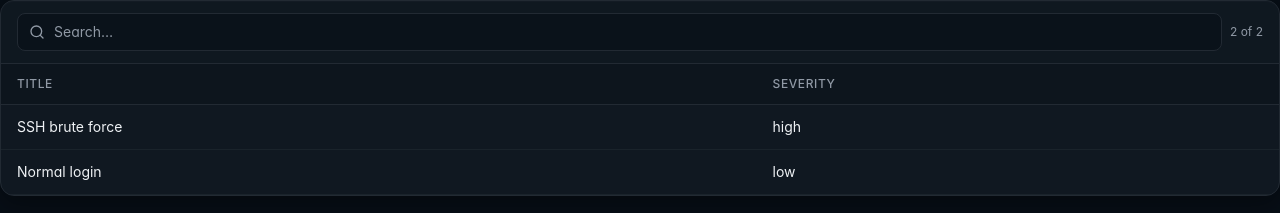
Test case: DataTable › filters rows from the search box
The width and height of the screenshot is (1280, 213).
Type "brute" into the field with placeholder "Search…" at [620, 32], box [17,13,1222,51]
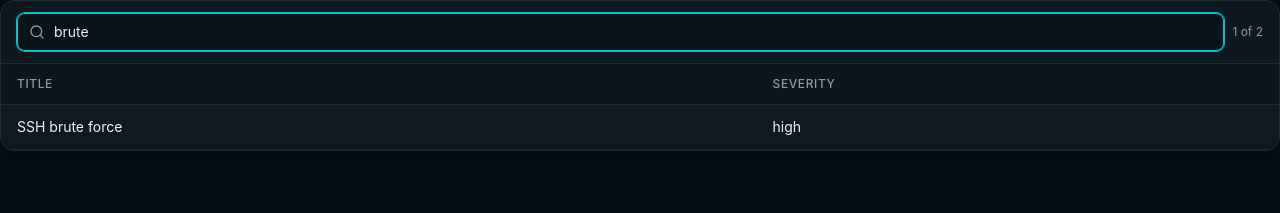
Expected: the text "SSH brute force" is shown, [1,104,756,150]
Expected: the text "Normal login" is gone
